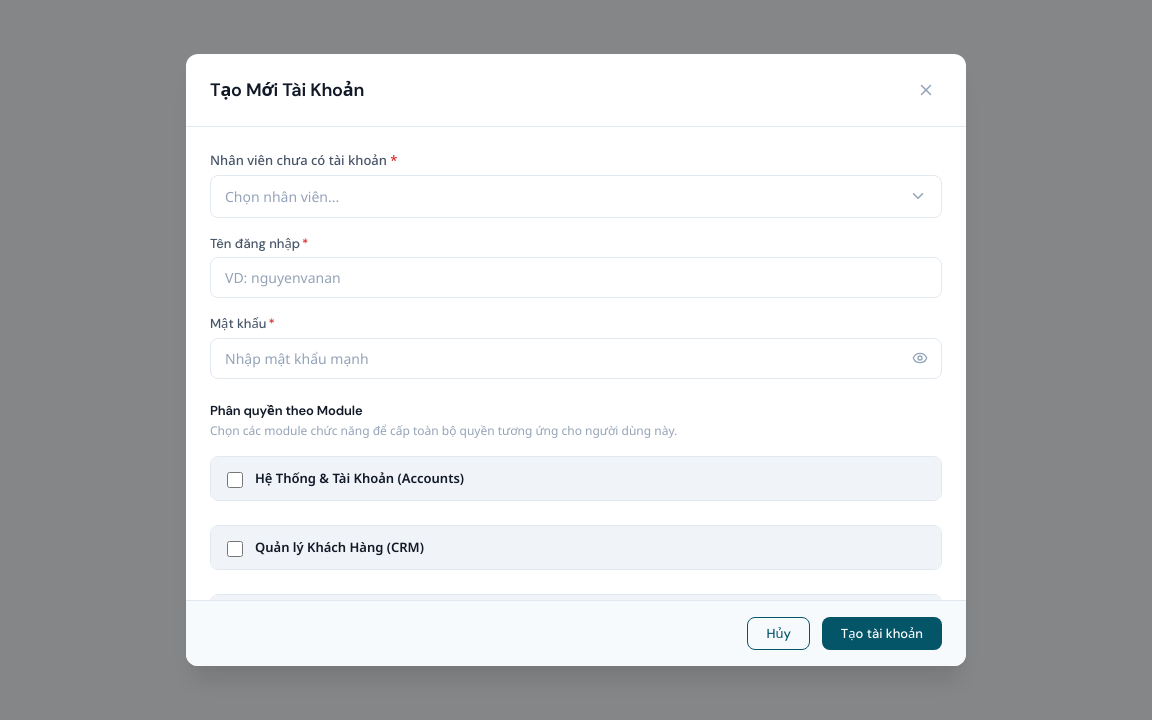
AccountModal › disables buttons when in loading/submitting state
// Open SearchableSelect
Click the dropdown: [576, 196] box [210,174,942,218]
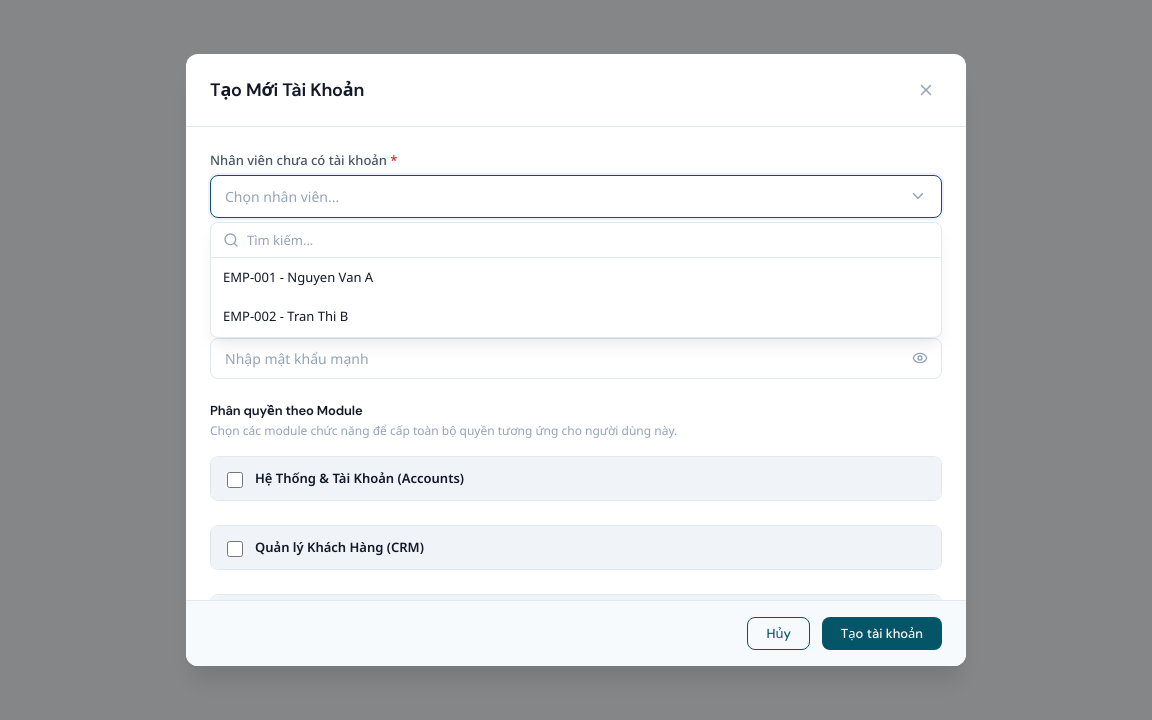
// Select option
Click the option "EMP-001 - Nguyen Van A": [298, 276] box [223,268,373,286]
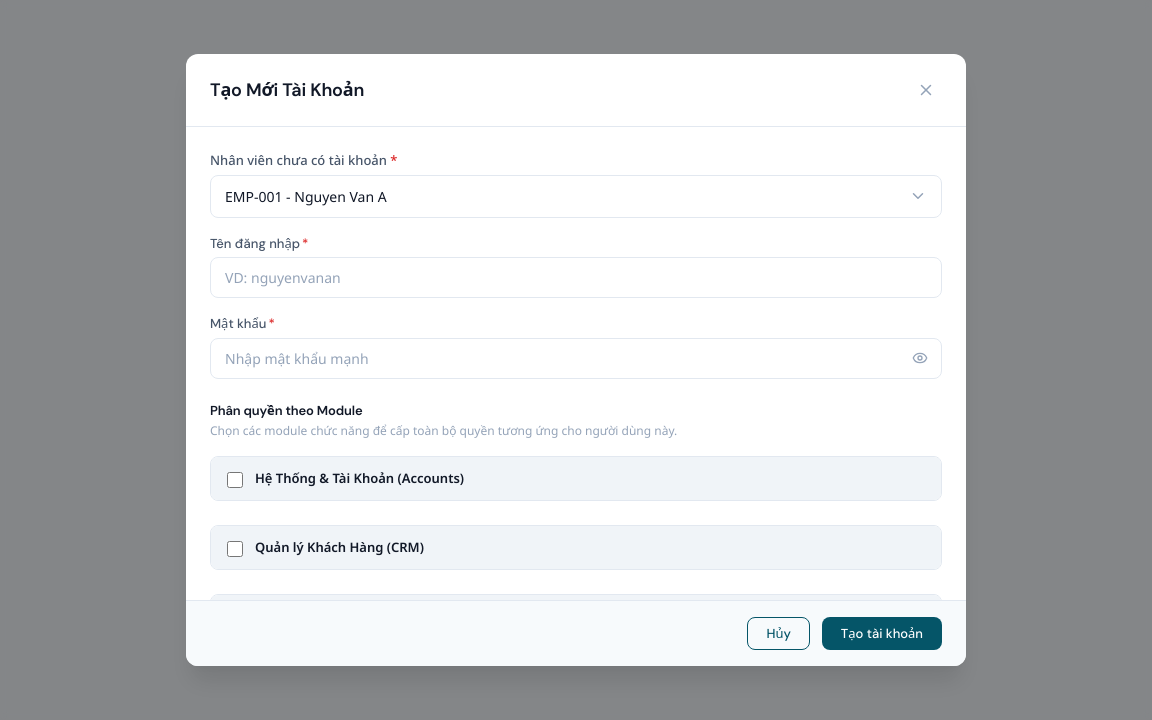
In the field labelled "Tên đăng nhập*": [576, 278] box [210,257,942,298], type "loadinguser"
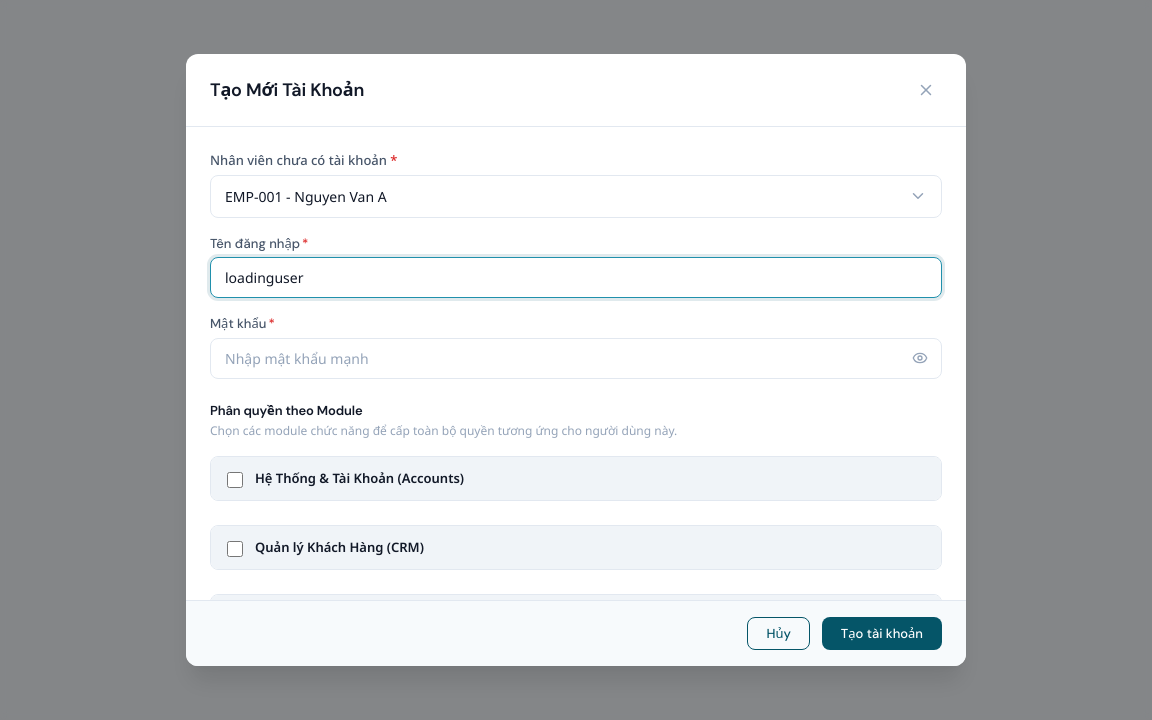
In the password field labelled "Mật khẩu*": [576, 358] box [210,338,942,378], type "StrongPass123!"
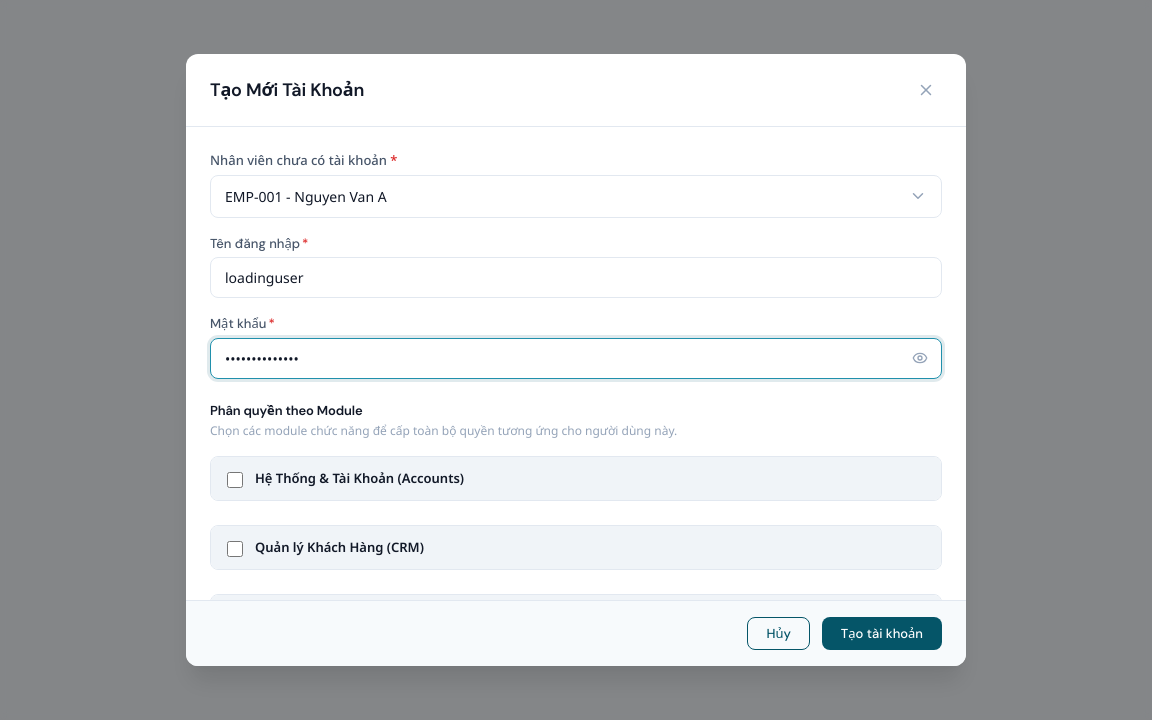
Click the button "Tạo tài khoản": [882, 634] box [822,617,942,650]
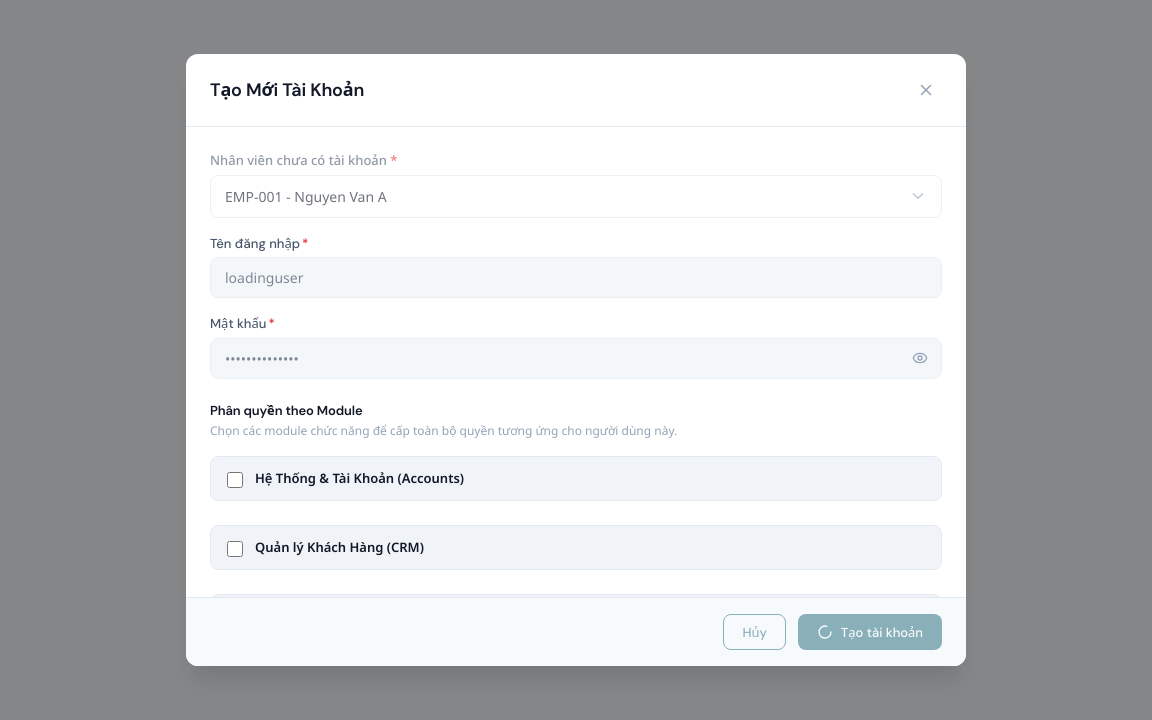
Expected: the button "Tạo tài khoản" is disabled, [798,614,942,650]
Expected: the button "Hủy" is disabled, [723,614,786,650]
